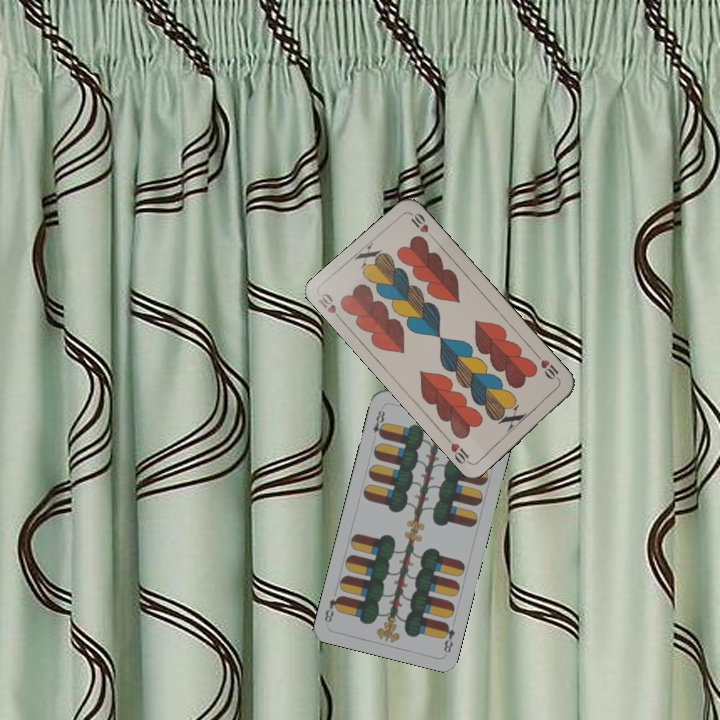E8: (438, 619, 457, 655), (369, 406, 388, 440)
H10: (314, 289, 346, 325), (533, 350, 563, 384)
